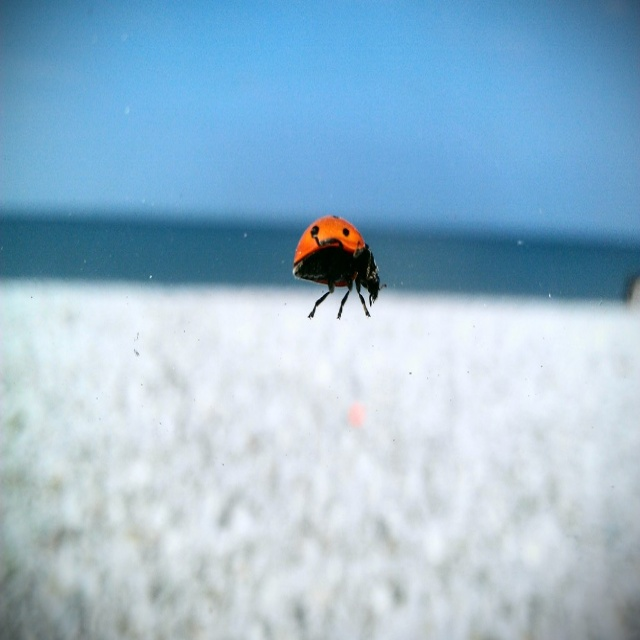Ladybug: (292, 214, 387, 319)
